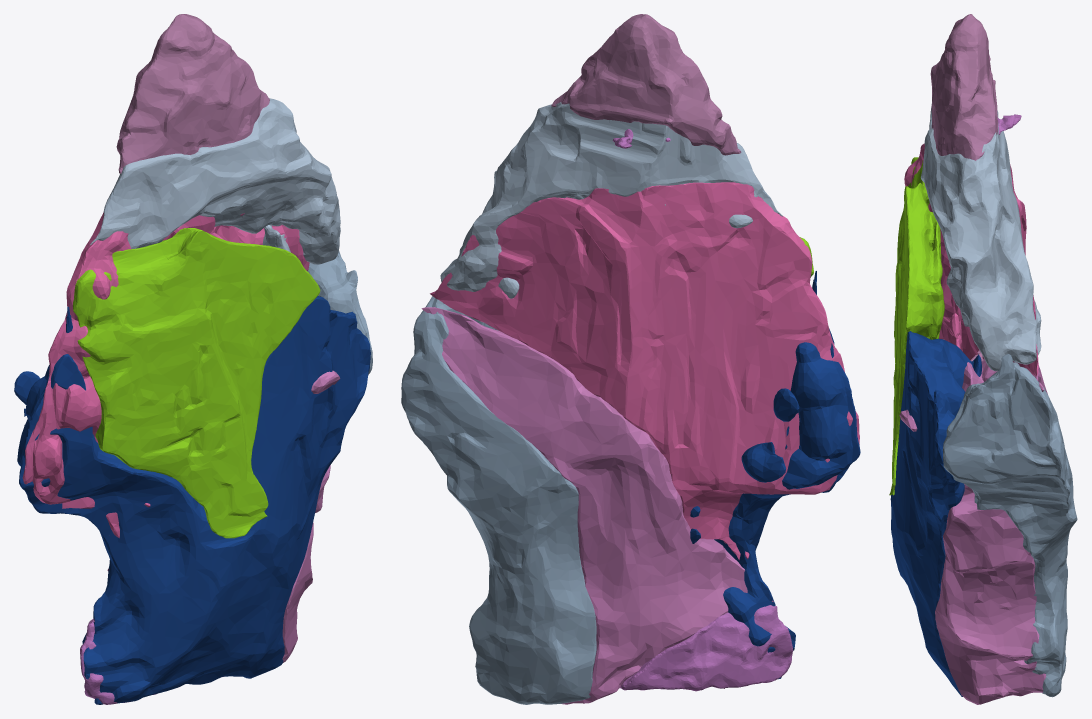
The picture shows the model from 3 angles, left to right: view 1: azimuth 30°, elevation 25°; view 2: azimuth 150°, elevation 25°; view 3: azimuth 270°, elevation 25°; orthographic projection. The views are drawn at different scales.
Parts seen in each view (by area): view 1: world; view 2: world; view 3: world.
Part boxes in pixels (x1,y1,x2,y2): world: [14, 14, 372, 704]; world: [401, 14, 860, 704]; world: [889, 14, 1077, 704].
Size of the model in its own units: 1.15 by 1.95 by 0.5195.
